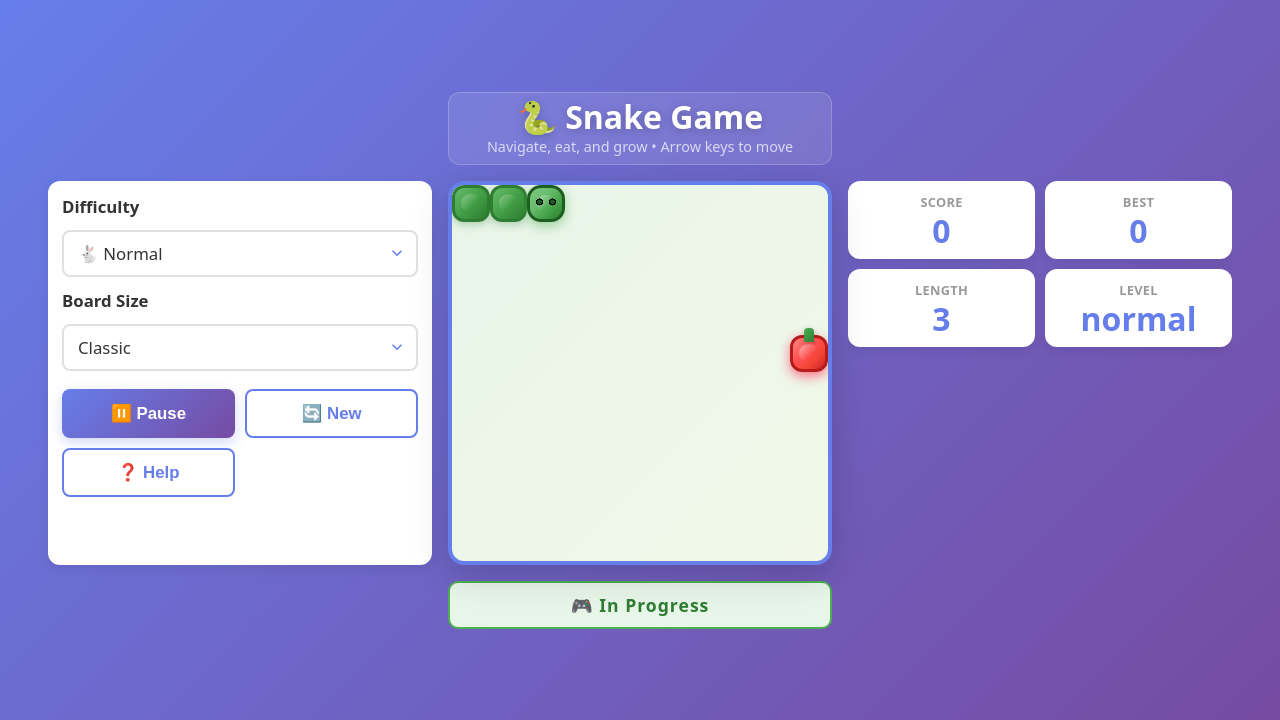
SnakeGame › opens and closes help panel
Click the button "❓ Help". click: [148, 472]
box: [62, 448, 235, 496]
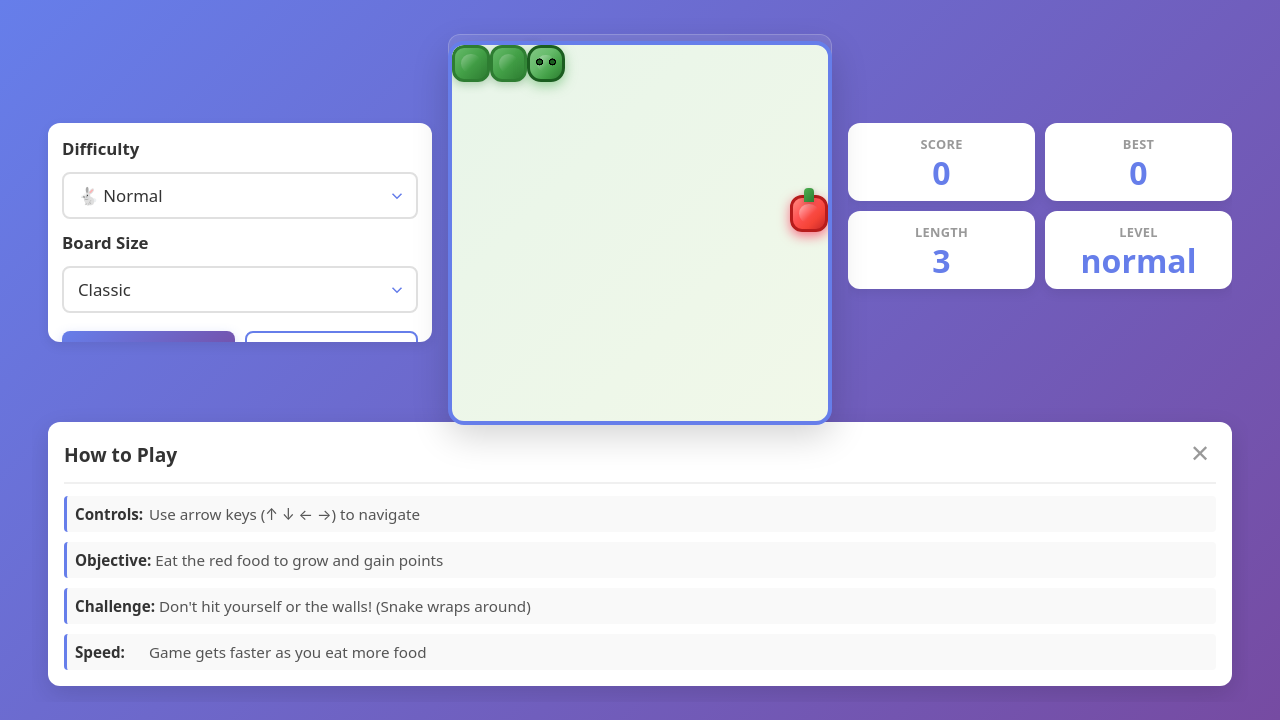
Expected: the heading "How to Play" is shown, [64, 440, 177, 468]
Click the button named "Close instructions". click: [1200, 454]
box: [1184, 438, 1216, 470]
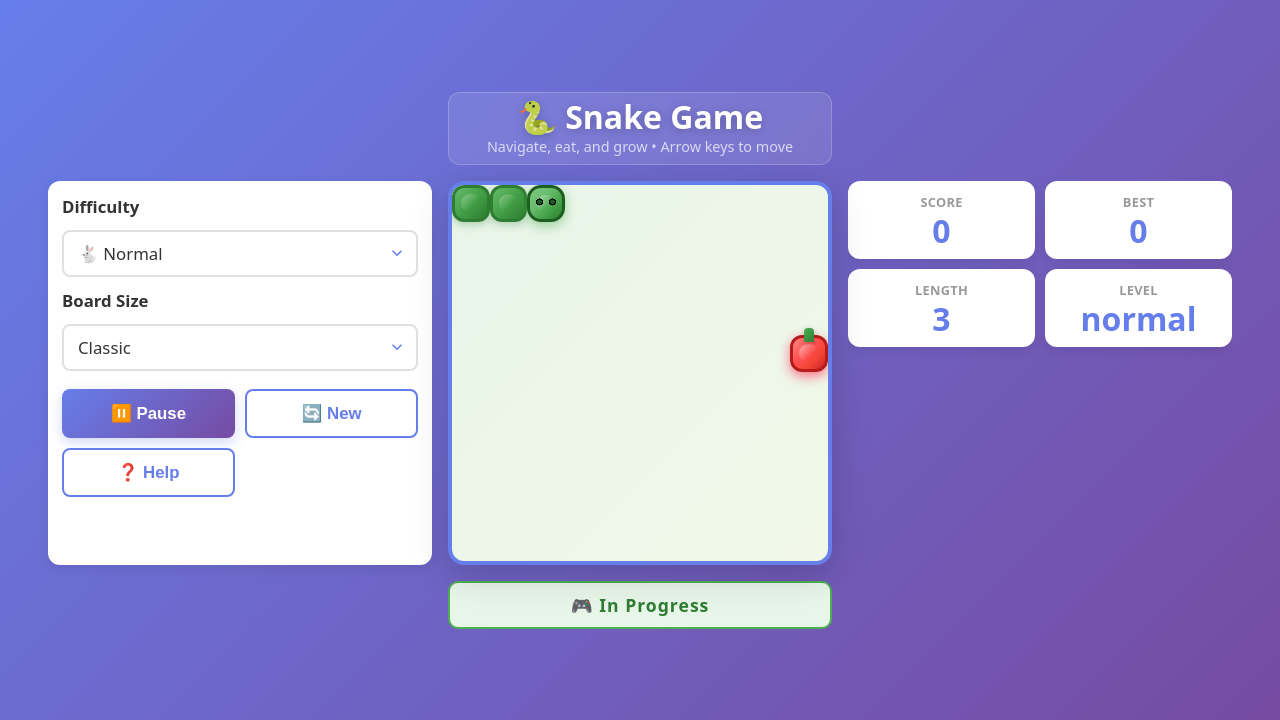
Expected: the heading "How to Play" is gone
